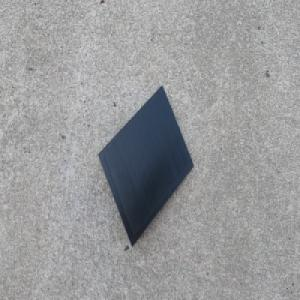PlasticPart: (97, 83, 194, 248)
